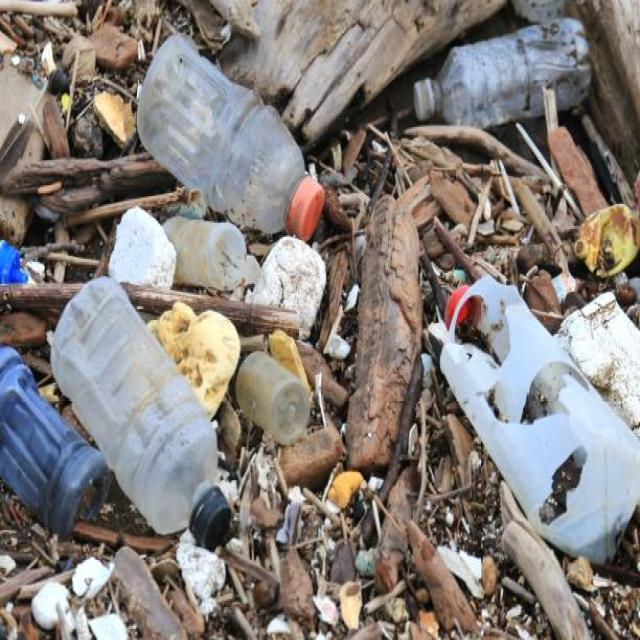plastic: (438, 270, 629, 532), (46, 287, 241, 535), (86, 32, 312, 242), (402, 22, 600, 122)
